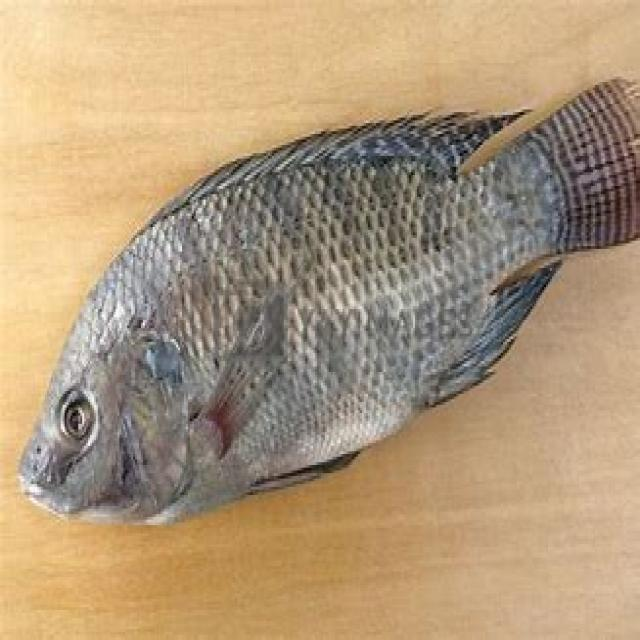Tilapia: (15, 78, 638, 528)
